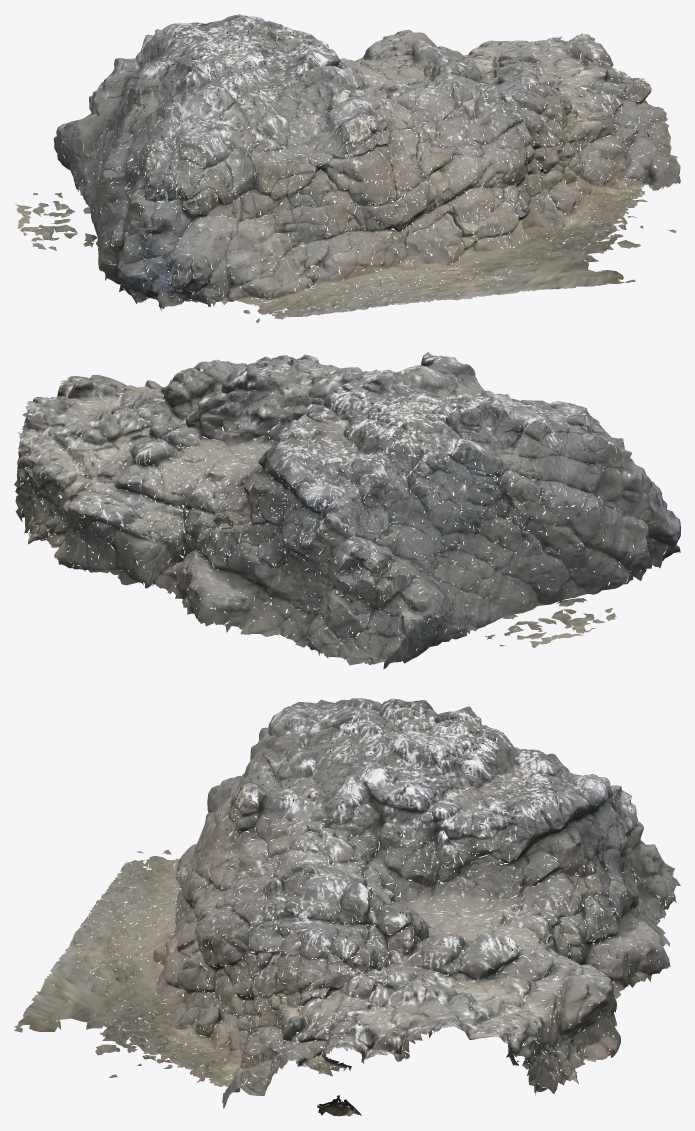
The model's file is rock-outcrop.glb.
3 views of the same model, one above another, from view 1: azimuth 30°, elevation 25°; view 2: azimuth 150°, elevation 25°; view 3: azimuth 270°, elevation 25° (orthographic). The views are drawn at different scales.
Visible parts, largest first — view 1: Stereo textured mesh_Material0_0 (×5); view 2: Stereo textured mesh_Material0_0 (×5); view 3: Stereo textured mesh_Material0_0 (×5).
Part boxes in pixels (left/top/right/bottom): Stereo textured mesh_Material0_0 (×5): left=15, top=14, right=680, bottom=323; Stereo textured mesh_Material0_0 (×5): left=14, top=352, right=680, bottom=669; Stereo textured mesh_Material0_0 (×5): left=14, top=698, right=680, bottom=1116.
Bounding box in the file's own units: 8 × 2.21 × 7.1.
1 material, 1 textured.
